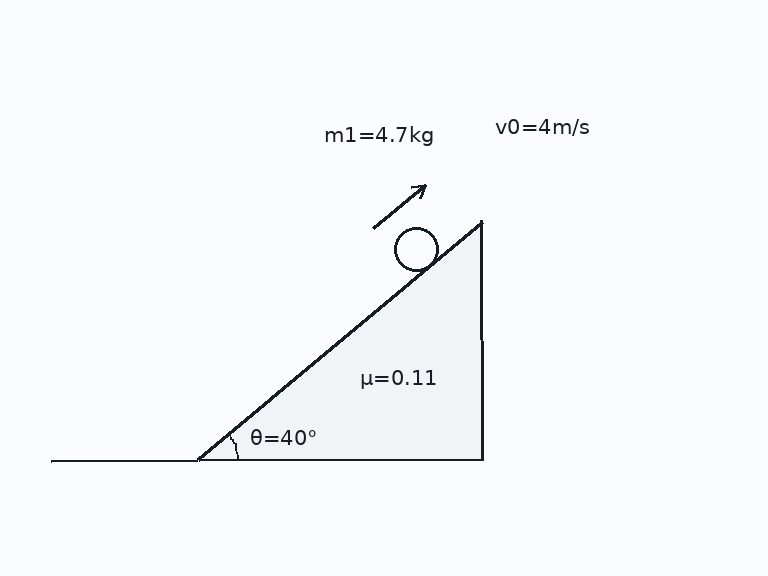ball: (392, 225, 440, 273)
ramp: (196, 220, 484, 462)
